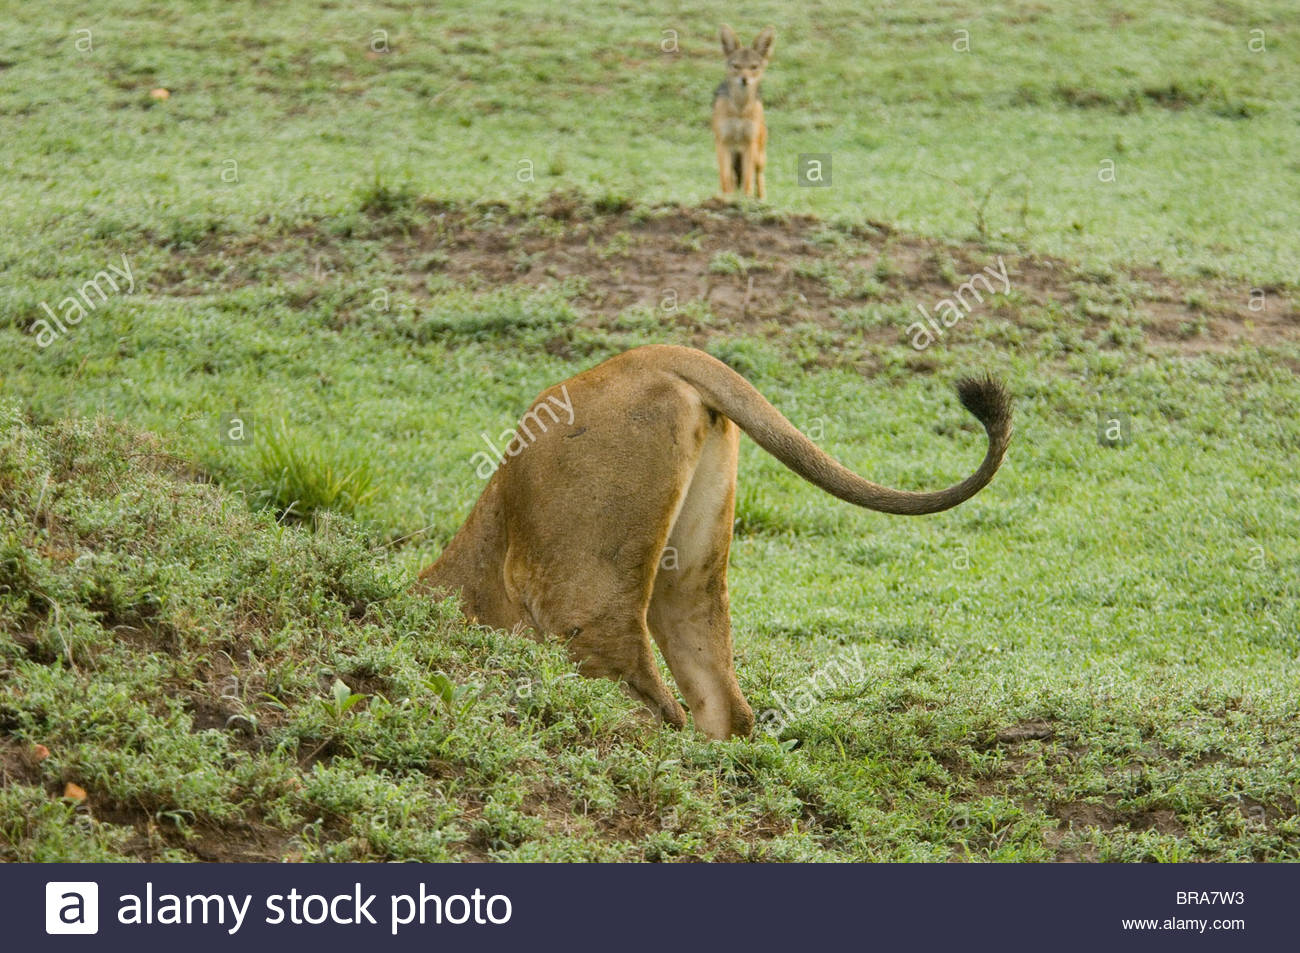fox: (705, 27, 790, 201)
lion: (420, 350, 1023, 733)
